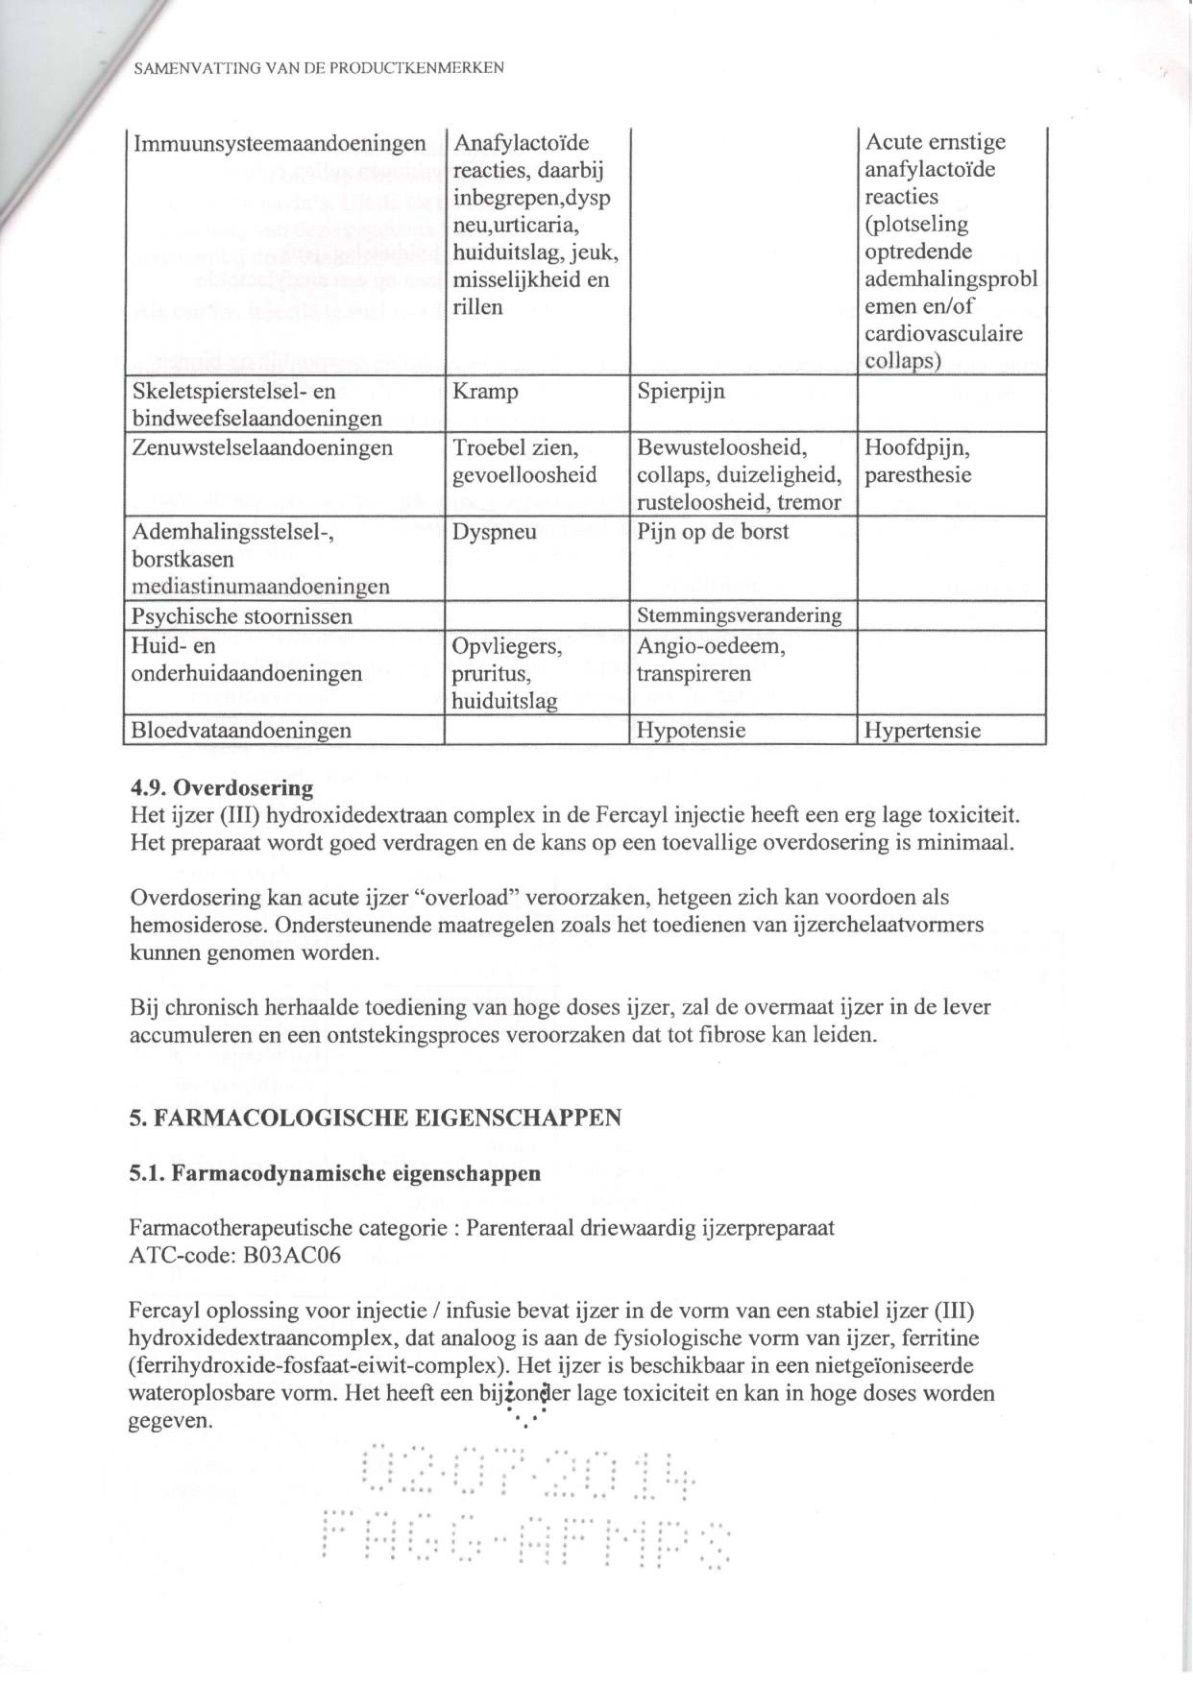partial_lined: (121, 128, 1050, 748)
